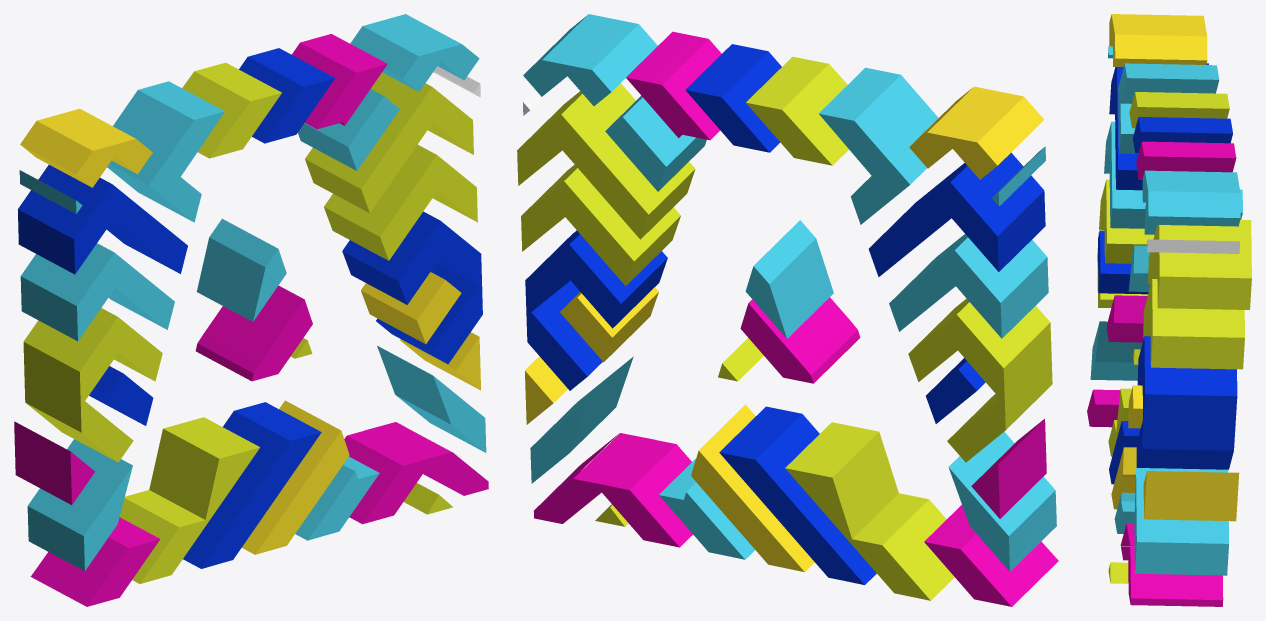
The picture shows the model from 3 angles, left to right: view 1: azimuth 30°, elevation 25°; view 2: azimuth 150°, elevation 25°; view 3: azimuth 270°, elevation 25°; orthographic projection. The views are drawn at different scales.
Parts seen in each view (by area): view 1: Object_2, Object_4, Object_6, Object_3, Object_5; view 2: Object_4, Object_2, Object_6, Object_3, Object_5; view 3: Object_2, Object_4, Object_6, Object_5, Object_3, Object_7.
Part boxes in pixels (<box>): Object_2: <box>19,14,486,571</box>; Object_4: <box>23,62,477,583</box>; Object_6: <box>18,48,482,568</box>; Object_3: <box>14,34,488,606</box>; Object_5: <box>20,108,480,554</box>; Object_4: <box>517,56,1052,600</box>; Object_2: <box>523,14,1056,571</box>; Object_6: <box>525,44,1045,584</box>; Object_3: <box>534,31,1058,606</box>; Object_5: <box>525,86,1044,571</box>; Object_2: <box>1090,46,1242,575</box>; Object_4: <box>1097,92,1251,583</box>; Object_6: <box>1098,63,1237,484</box>; Object_5: <box>1109,14,1239,521</box>; Object_3: <box>1087,141,1236,606</box>; Object_7: <box>1118,239,1240,546</box>.
Bounding box in the file's own units: 98.49 × 97.41 × 35.21.
